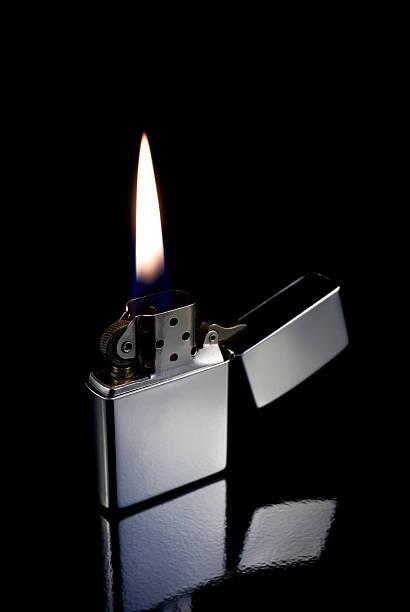Fire: (126, 128, 173, 304)
